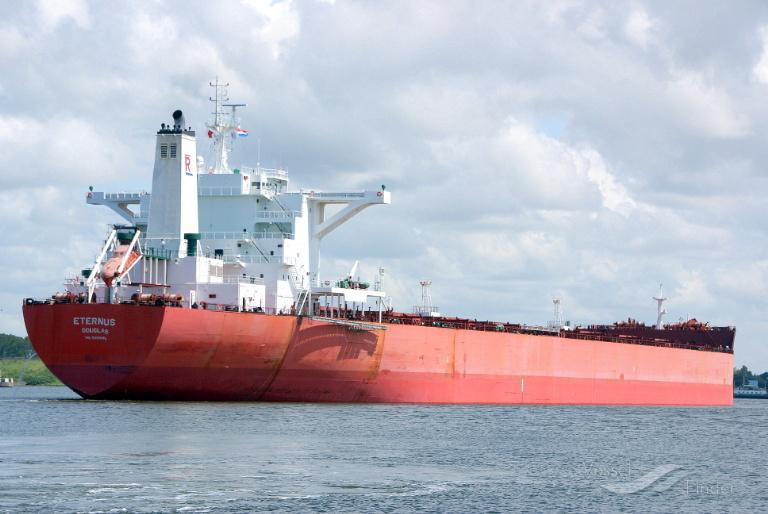OCR: (68, 310, 124, 342)
